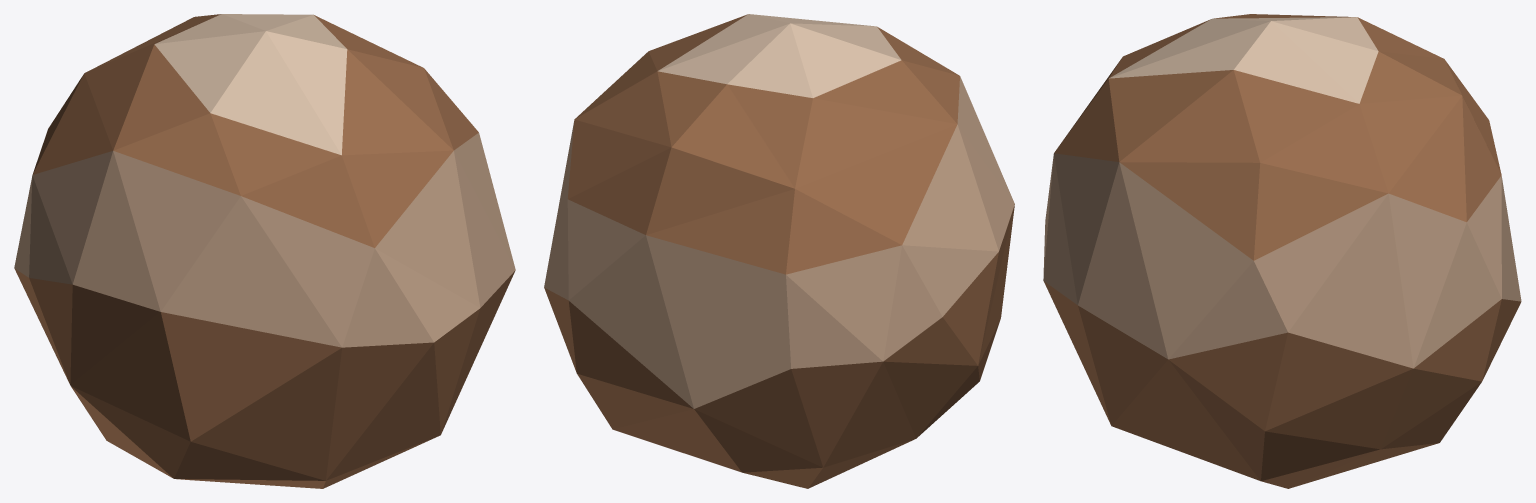
File: rockyMoon2.fbx
3 views of the same model, side by side, from view 1: azimuth 30°, elevation 25°; view 2: azimuth 150°, elevation 25°; view 3: azimuth 270°, elevation 25° (orthographic). The views are drawn at different scales.
Parts seen in each view (by area): view 1: RockyMoon2; view 2: RockyMoon2; view 3: RockyMoon2.
Part boxes in pixels (left/top/right/bottom): RockyMoon2: left=14, top=14, right=515, bottom=488; RockyMoon2: left=544, top=14, right=1014, bottom=488; RockyMoon2: left=1043, top=14, right=1521, bottom=488.
Size of the model in its own units: 290 by 299 by 292.
1 material, 1 textured.
